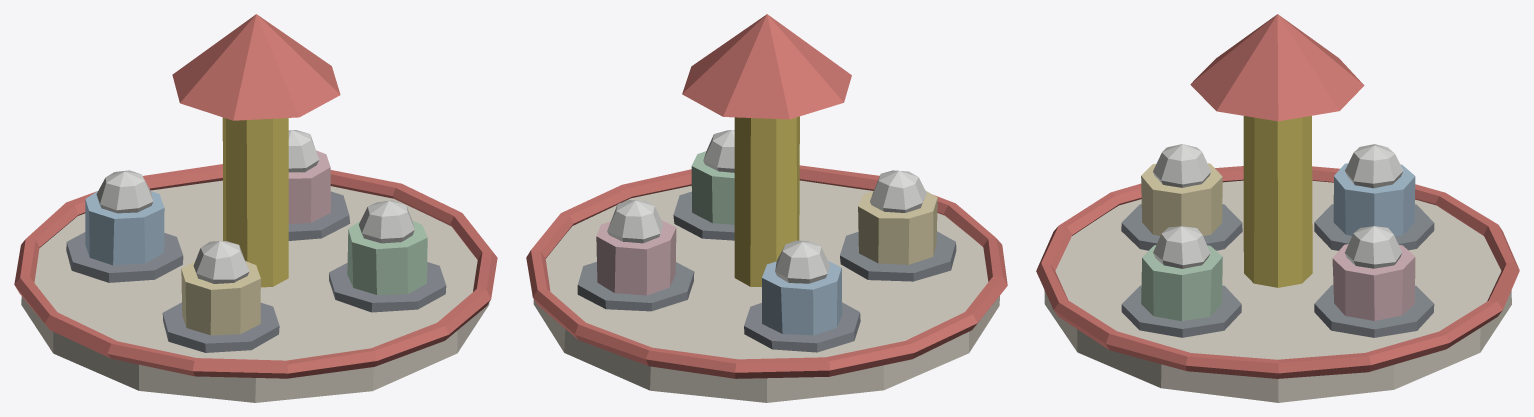
Rendered from twist.fbx.
3 views of the same model, side by side, from view 1: azimuth 30°, elevation 25°; view 2: azimuth 150°, elevation 25°; view 3: azimuth 270°, elevation 25° (orthographic).
Visible parts, largest first — view 1: Twist; view 2: Twist; view 3: Twist.
Part boxes in pixels (box(x1,y1,x2,y2)): Twist: box(14, 14, 497, 402); Twist: box(526, 14, 1007, 402); Twist: box(1036, 14, 1519, 402).
Size of the model in its own units: 5 by 3.31 by 4.99.
